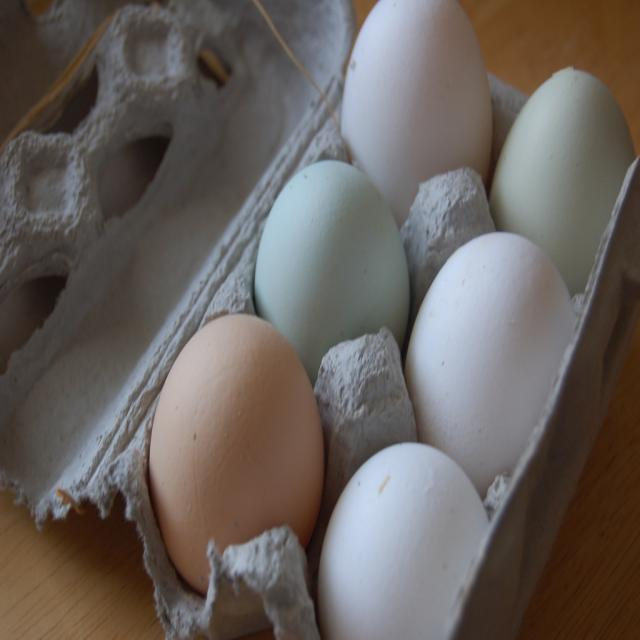Egg: (219, 54, 638, 639), (144, 305, 326, 599), (409, 229, 580, 505), (494, 62, 634, 284)
